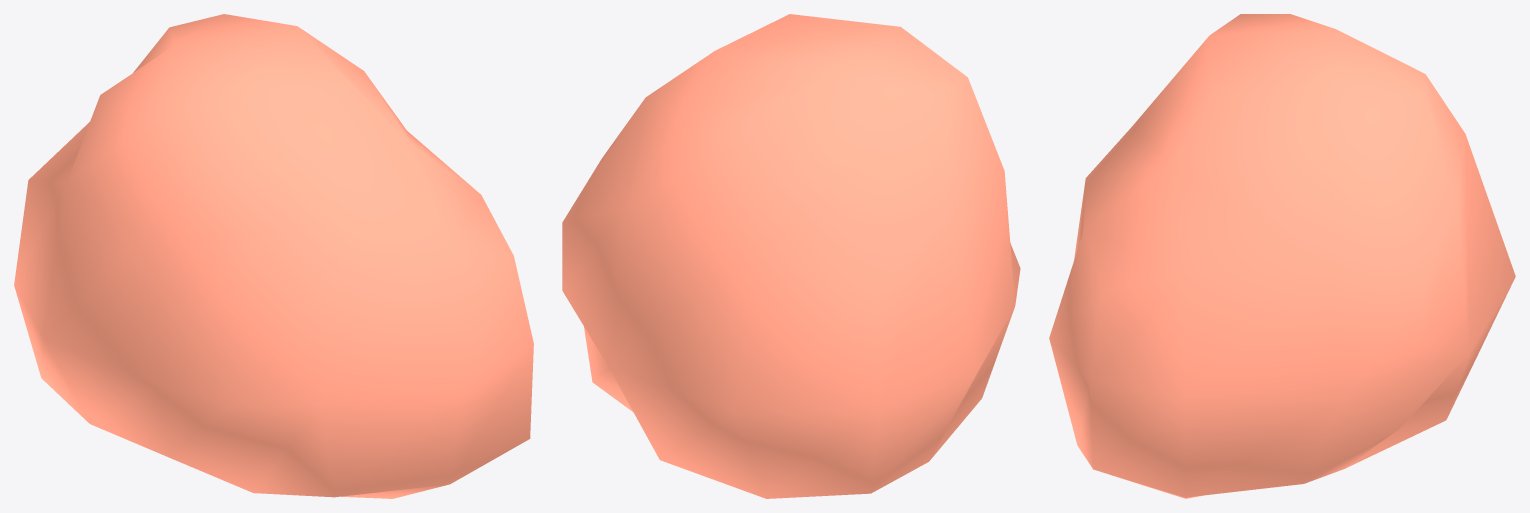
Rendered from StoneB.fbx.
The picture shows the model from 3 angles, left to right: view 1: azimuth 30°, elevation 25°; view 2: azimuth 150°, elevation 25°; view 3: azimuth 270°, elevation 25°; orthographic projection. The views are drawn at different scales.
Visible parts, largest first — view 1: Volume_Mesher; view 2: Volume_Mesher; view 3: Volume_Mesher.
Boxes of the visible parts, x1,y1,x2,y2 form: Volume_Mesher: (14, 14, 533, 498); Volume_Mesher: (562, 14, 1020, 498); Volume_Mesher: (1049, 14, 1515, 498).
Size of the model in its own units: 444 by 454 by 473.
